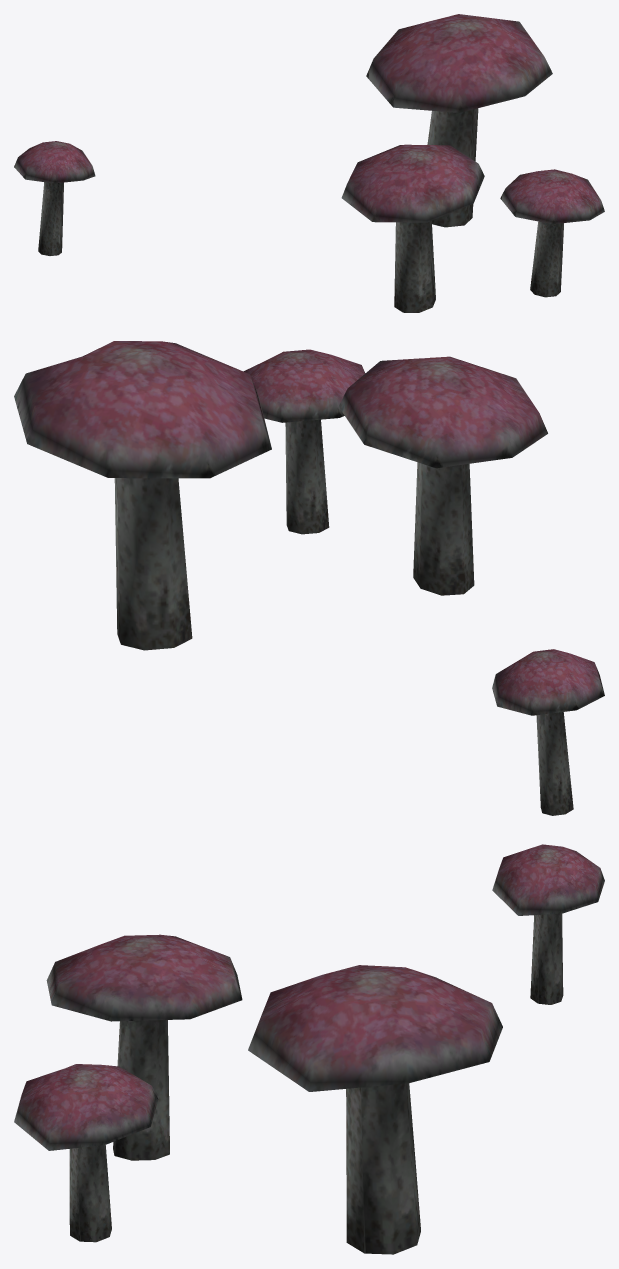
The model's file is Mushrooms_C.fbx.
3 views of the same model, one above another, from view 1: azimuth 30°, elevation 25°; view 2: azimuth 150°, elevation 25°; view 3: azimuth 270°, elevation 25° (orthographic). The views are drawn at different scales.
Visible parts, largest first — view 1: Mushrooms_C; view 2: Mushrooms_C; view 3: Mushrooms_C.
Part boxes in pixels (bbox=[...]): Mushrooms_C: bbox=[14, 14, 604, 312]; Mushrooms_C: bbox=[14, 341, 604, 815]; Mushrooms_C: bbox=[14, 844, 604, 1254].
Bounding box in the file's own units: 36.6 × 14.82 × 29.01.
